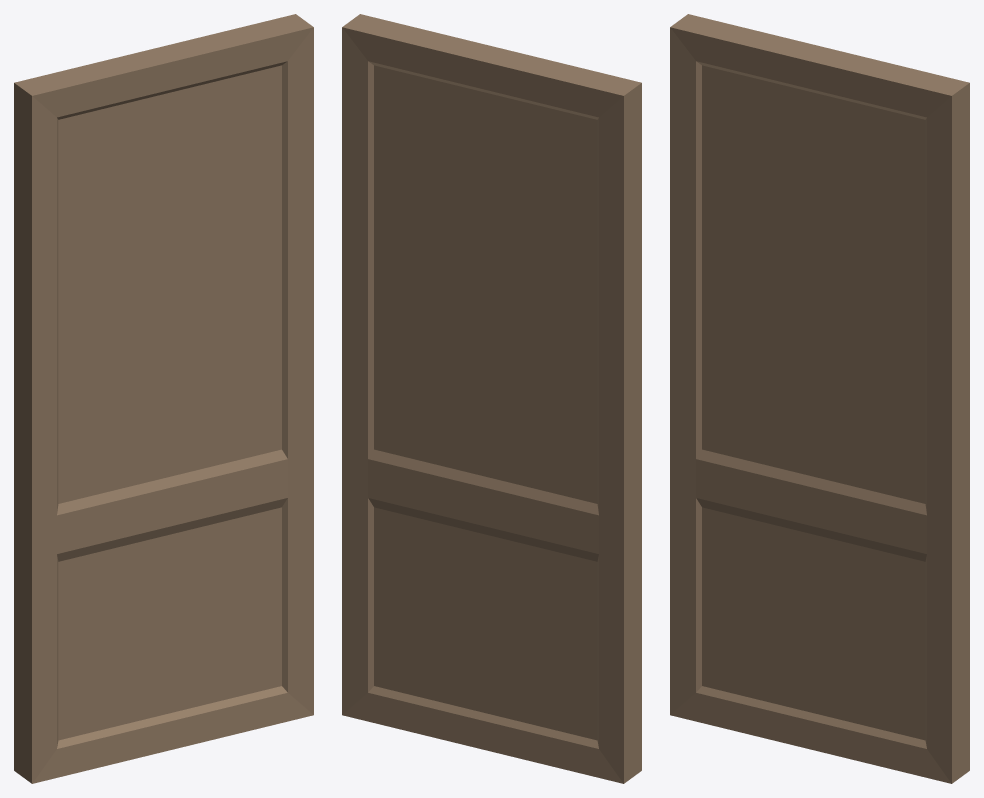
The model's file is door-single.glb.
3 renders of one model, left to right at view 1: azimuth 30°, elevation 25°; view 2: azimuth 150°, elevation 25°; view 3: azimuth 330°, elevation 25°, orthographic.
Parts seen in each view (by area): view 1: DoorSingle; view 2: DoorSingle; view 3: DoorSingle.
Part boxes in pixels (x1,y1,x2,y2): DoorSingle: [14, 14, 313, 783]; DoorSingle: [342, 14, 641, 783]; DoorSingle: [670, 14, 969, 783].
Size of the model in its own units: 0.9 by 2.1 by 0.1.
